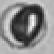correct: (4, 0, 49, 50)
